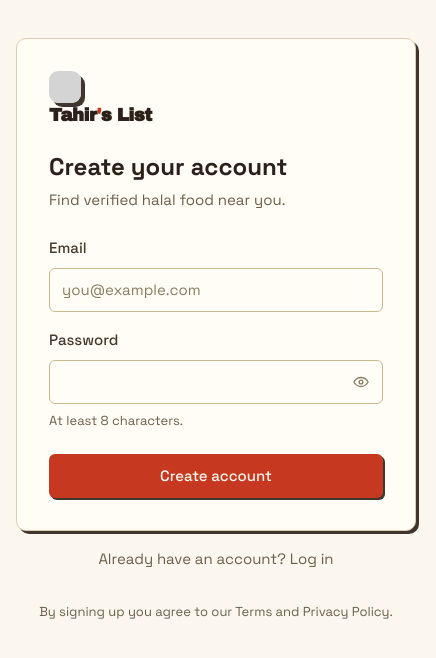
SignUpPage — email-not-unique error (#2) › clears the conflict error once the user edits the email
In the field labelled "Email": (216, 290) [49, 268, 383, 312], type "dup@example.com"
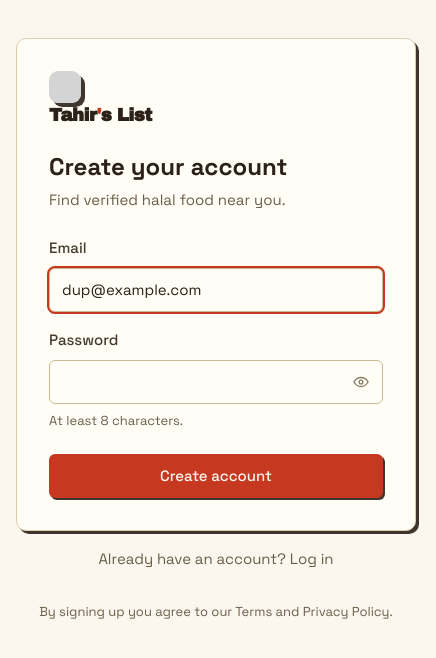
In the password field labelled "Password": (216, 382) [49, 360, 383, 404], type "password123"
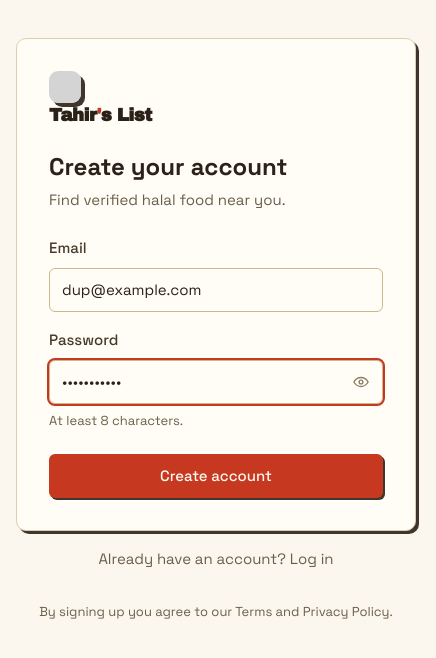
Click the button "Create account": (216, 476) [49, 454, 383, 498]
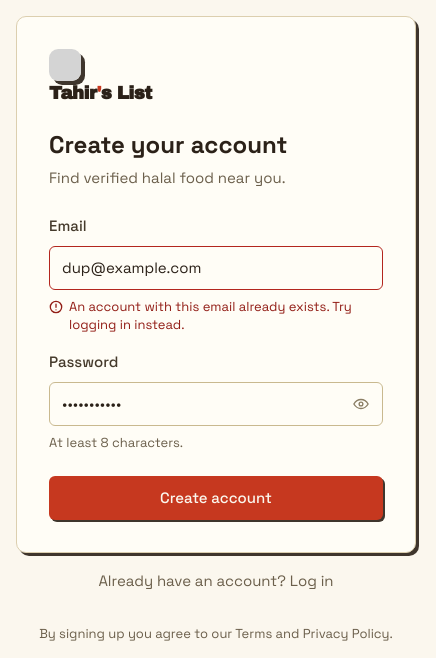
expect the link "logging in" is shown: met, box [69, 316, 131, 332]
Clear the field labelled "Email": (216, 268) [49, 246, 383, 290]
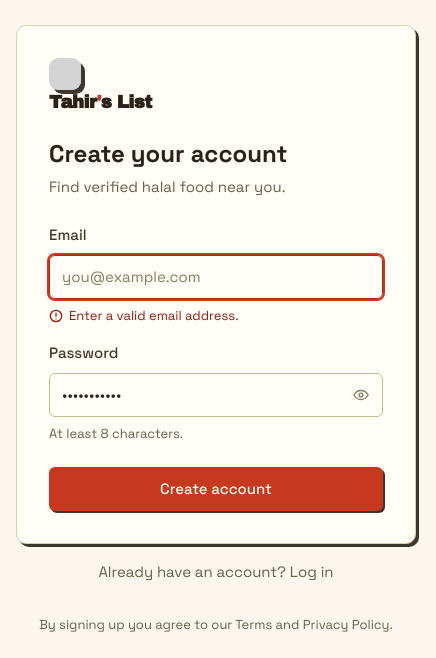
In the field labelled "Email": (216, 276) [49, 254, 383, 298], type "fresh@example.com"
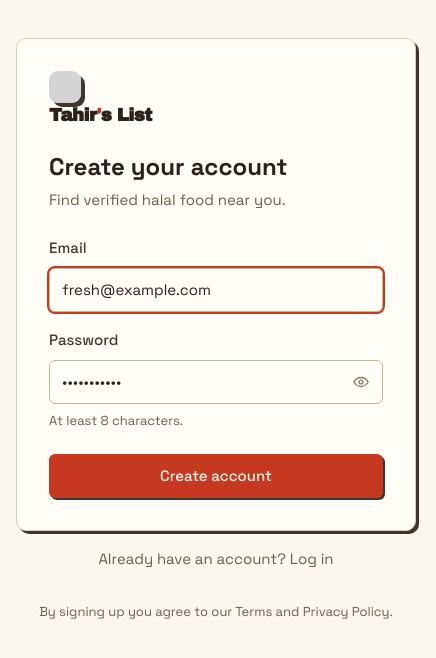
expect the link "logging in" is not shown: met
expect the message "Enter a valid email address." is gone: met
